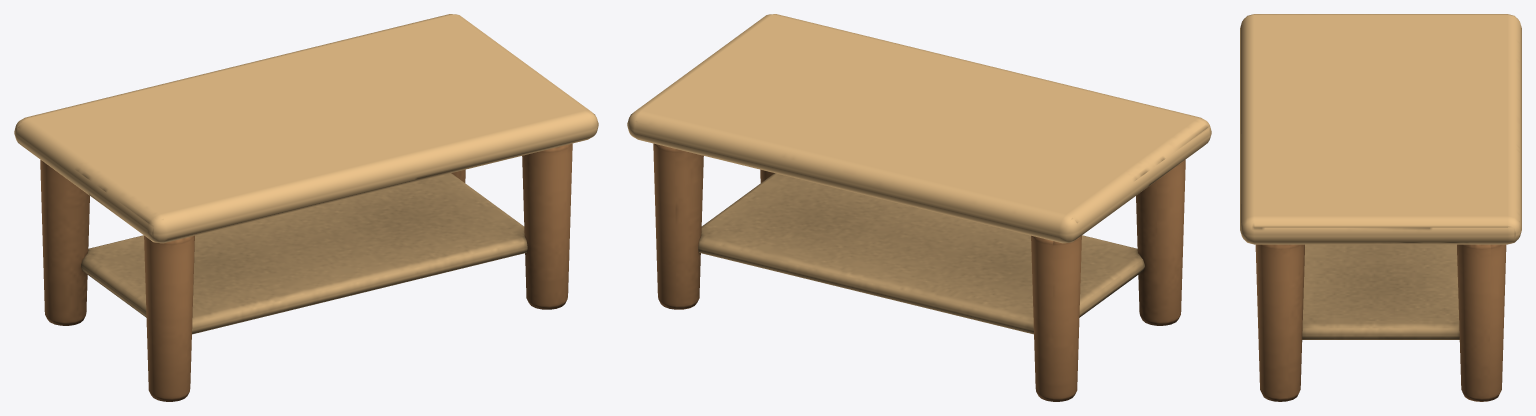
File: coffee_table.glb
The picture shows the model from 3 angles, left to right: view 1: azimuth 30°, elevation 25°; view 2: azimuth 150°, elevation 25°; view 3: azimuth 270°, elevation 25°; orthographic projection. The views are drawn at different scales.
Visible parts, largest first — view 1: coffee_table; view 2: coffee_table; view 3: coffee_table.
Part boxes in pixels (left/top/right/bottom): coffee_table: left=14, top=14, right=598, bottom=401; coffee_table: left=627, top=14, right=1211, bottom=401; coffee_table: left=1240, top=14, right=1521, bottom=401.
Size of the model in its own units: 1 by 0.42 by 0.56.
Materials: 2 (2 with a texture image).
